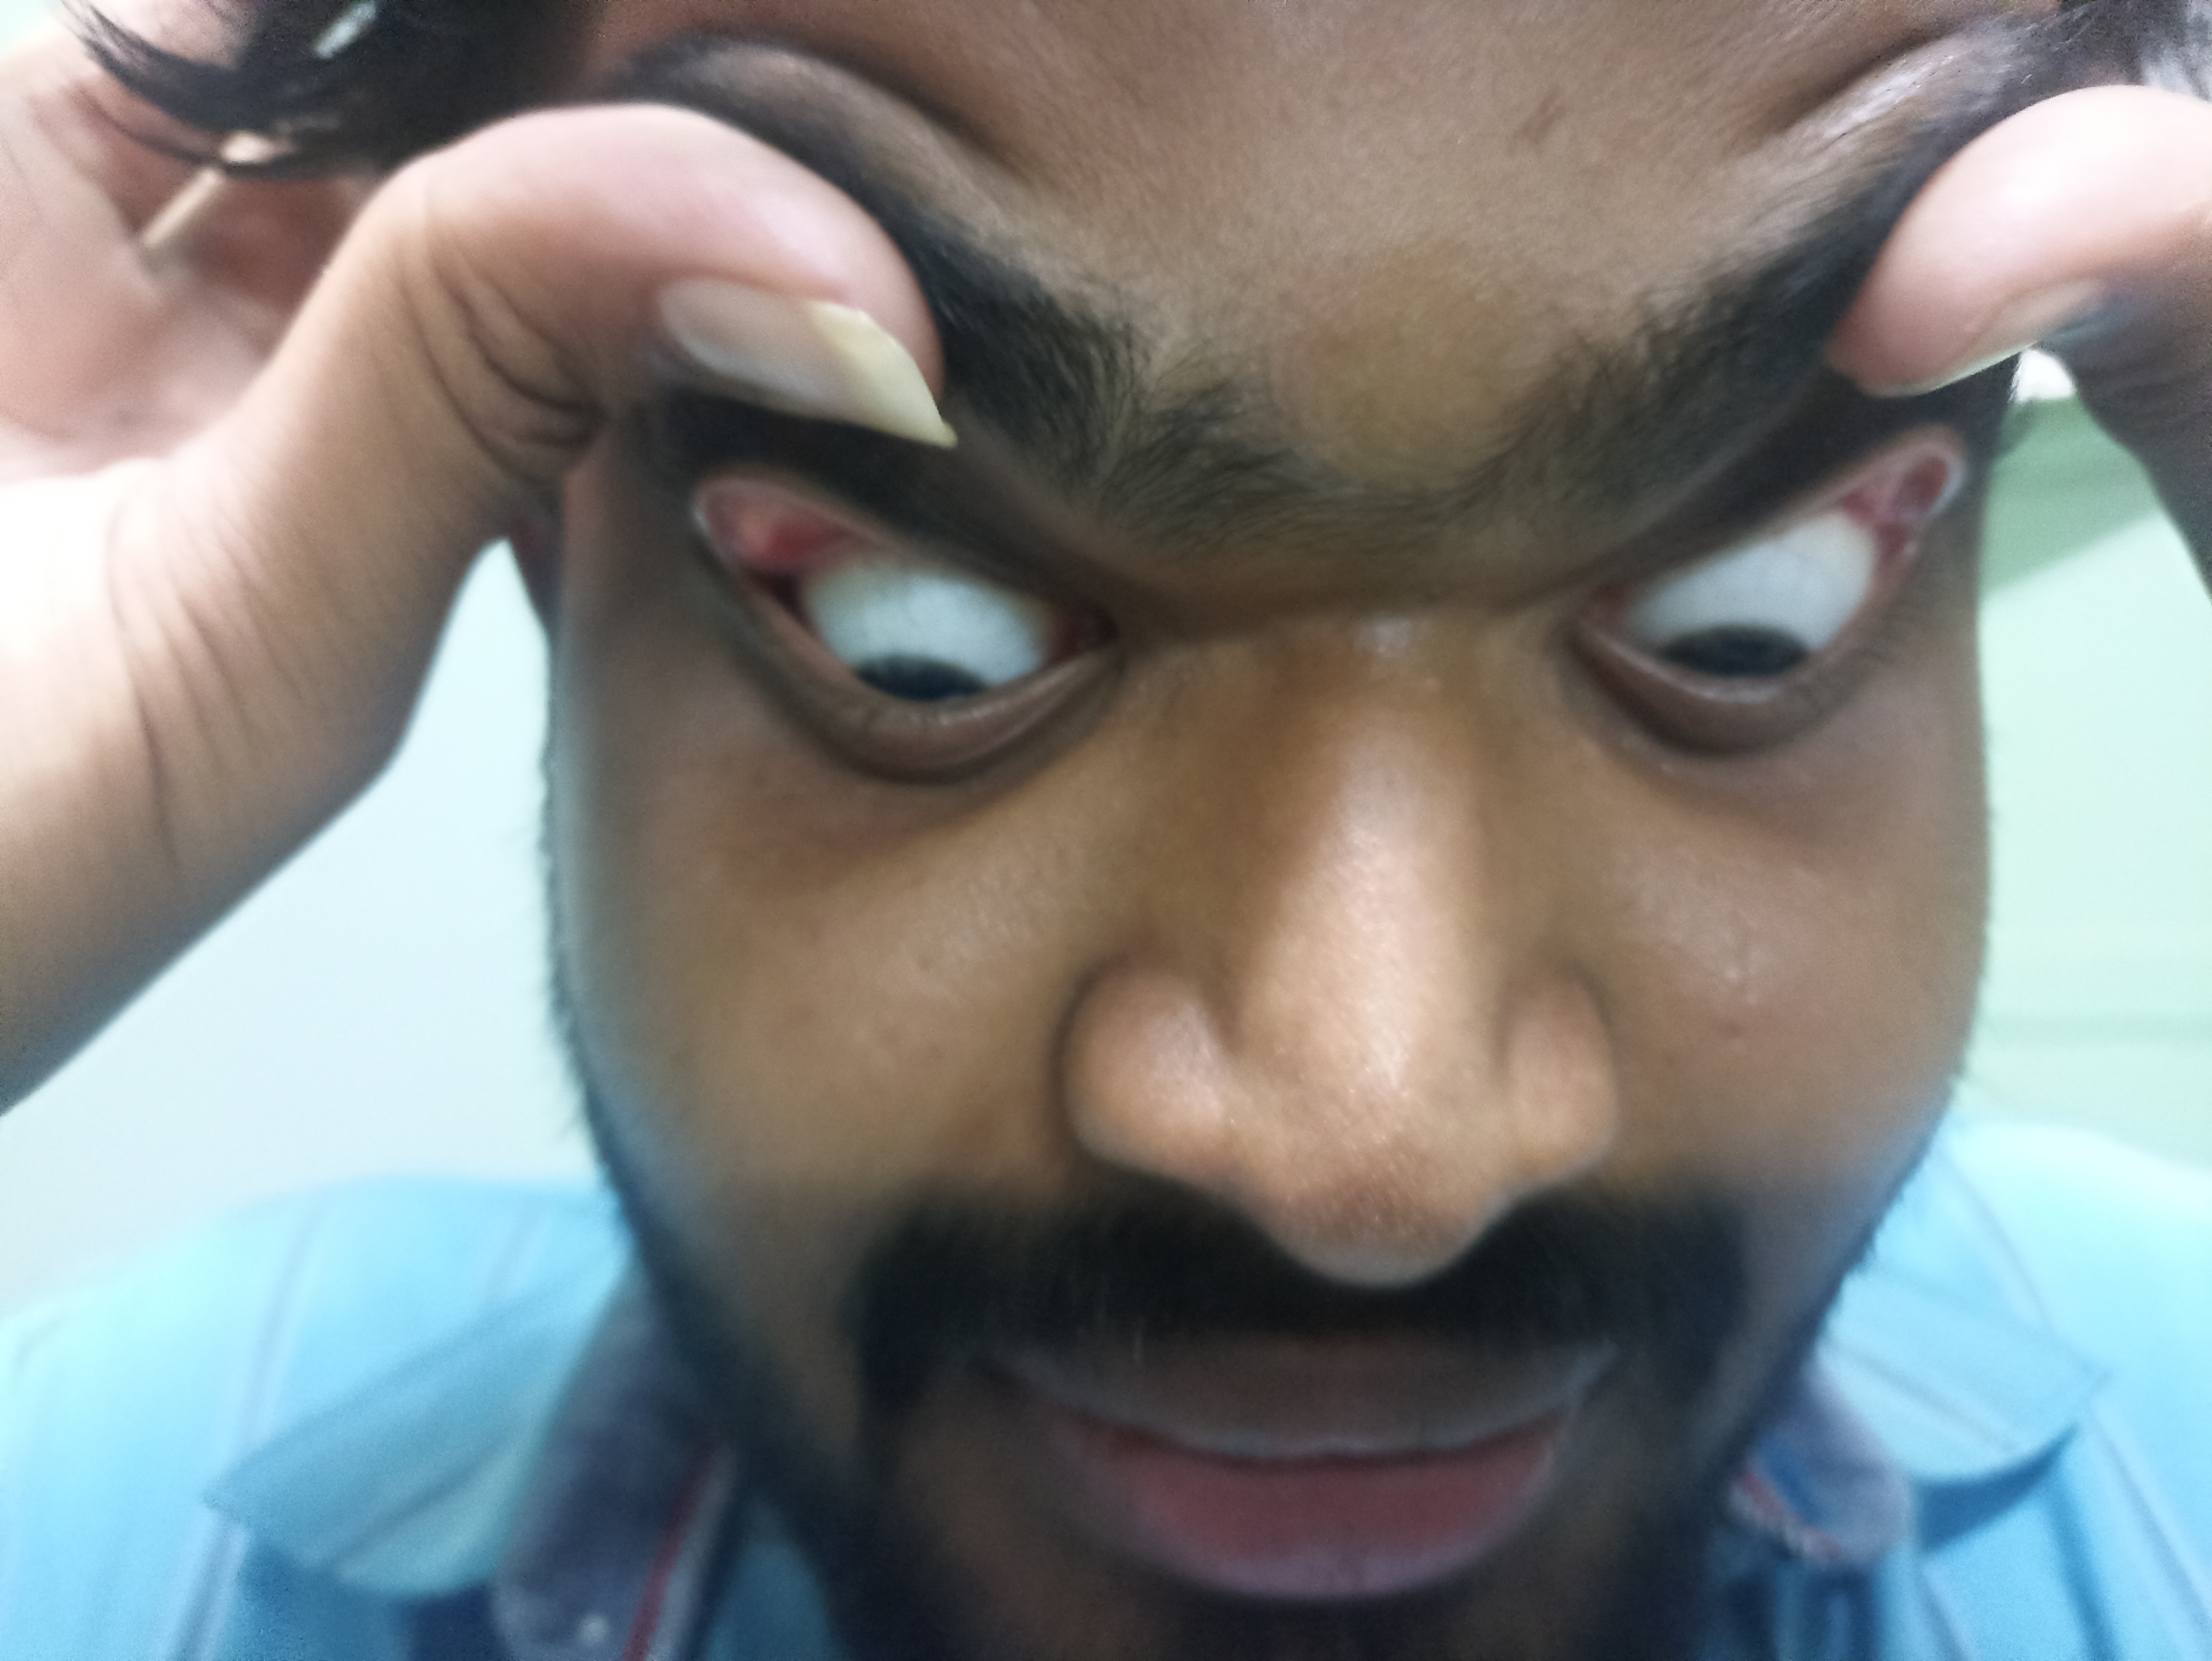EYE DOWN: (1427, 258, 2114, 883), (525, 249, 1171, 855)
